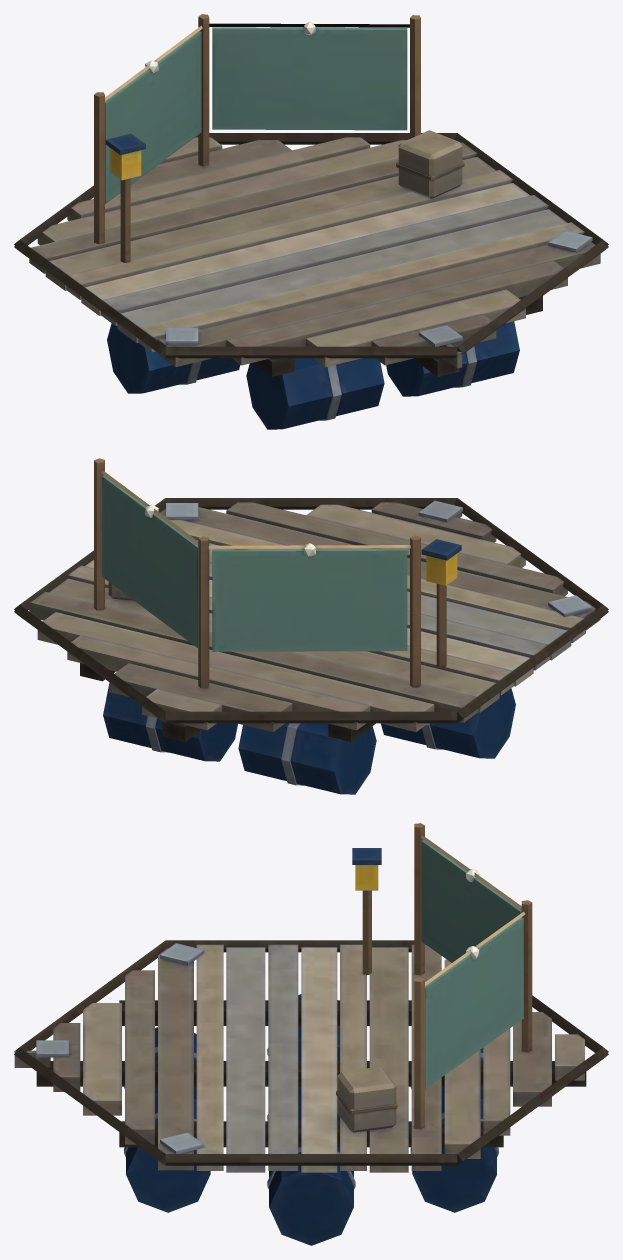
The model's file is raft-b-age10.glb.
3 renders of one model, top to bottom at view 1: azimuth 30°, elevation 25°; view 2: azimuth 150°, elevation 25°; view 3: azimuth 270°, elevation 25°, orthographic.
Visible parts, largest first — view 1: raft-b-age10; view 2: raft-b-age10; view 3: raft-b-age10.
Part boxes in pixels (x1=…): raft-b-age10: x1=14, y1=14, x2=608, y2=429; raft-b-age10: x1=14, y1=458, x2=608, y2=794; raft-b-age10: x1=14, y1=823, x2=608, y2=1245.
Size of the model in its own units: 1.59 by 0.866 by 1.83.
1 material, 1 textured.
